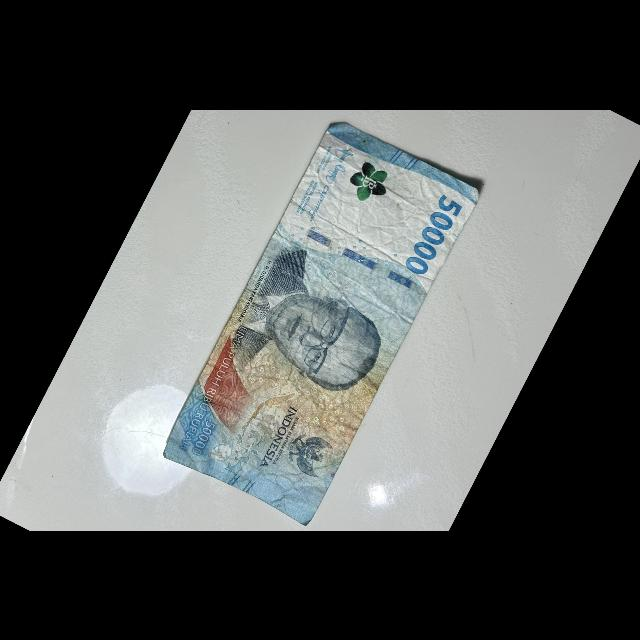Palsu-50k: (155, 110, 486, 533)
Tinta-Palsu-50k: (341, 154, 397, 211)
